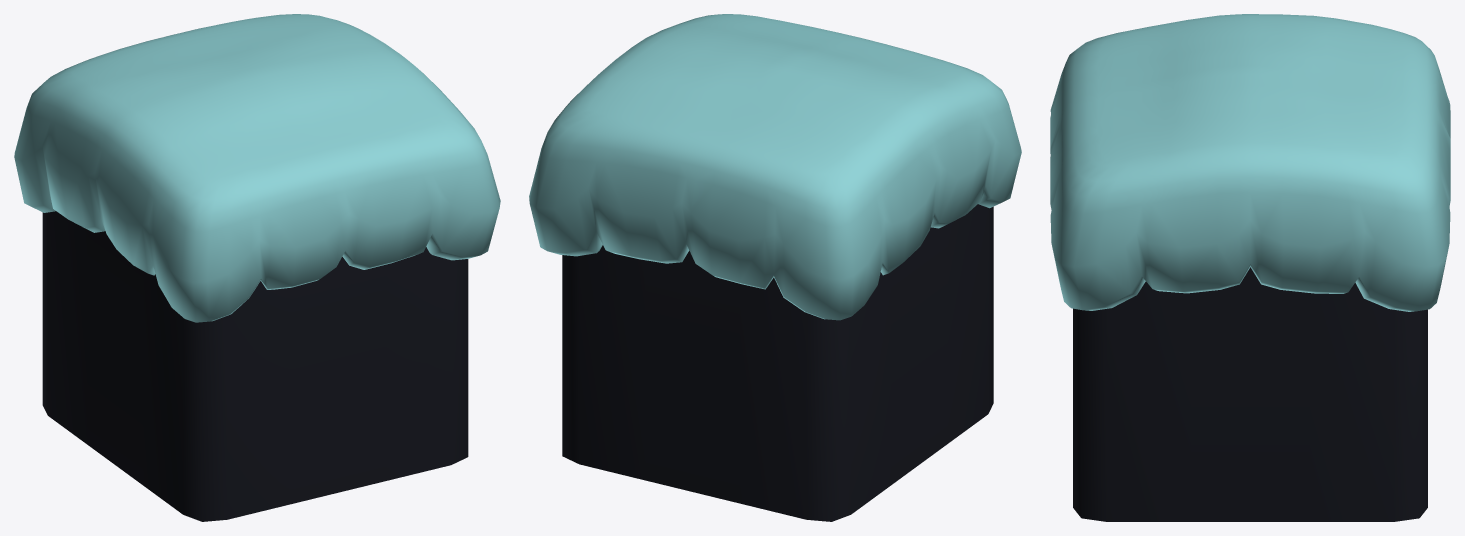
File: mur_rock_01.fbx
3 renders of one model, left to right at view 1: azimuth 30°, elevation 25°; view 2: azimuth 150°, elevation 25°; view 3: azimuth 270°, elevation 25°, orthographic. The views are drawn at different scales.
Parts seen in each view (by area): view 1: Box034, Box033; view 2: Box034, Box033; view 3: Box034, Box033.
Part boxes in pixels (x1,y1,x2,y2): Box034: (14,14,500,322); Box033: (42,211,468,521); Box034: (529,14,1021,320); Box033: (562,204,993,521); Box034: (1050,14,1450,311); Box033: (1073,267,1427,521).
Size of the model in its own units: 635 by 662 by 632.
